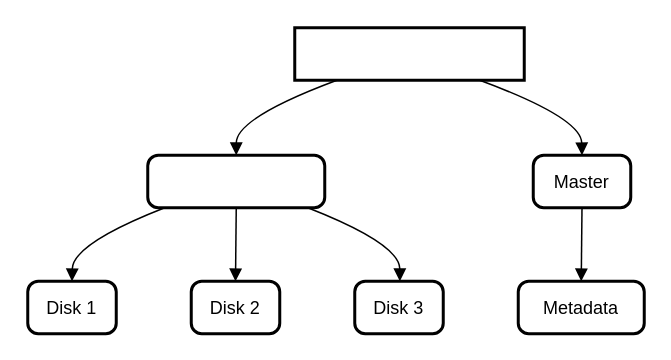
This 671x360 diagram has some shape labels left out. The shapes that lost their labels are listed below. From the top down, each one's centre as x and y in pixels, then its label:
At (408,53): "Google File System".
At (236,180): "Chunk Servers".
